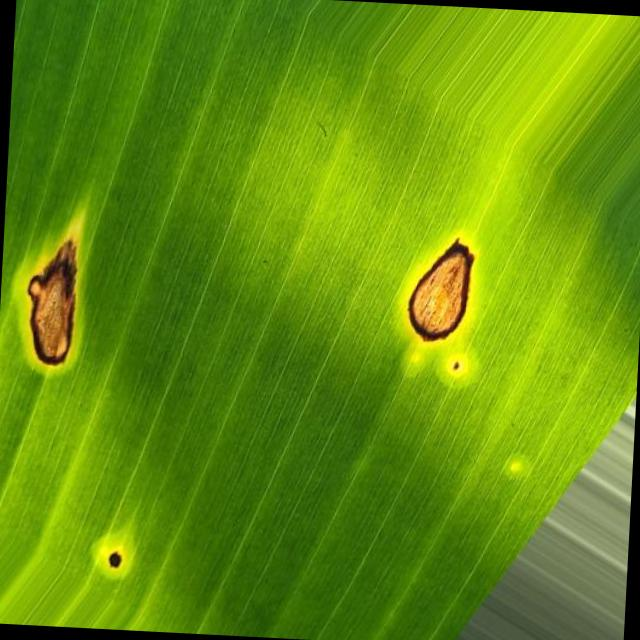Banana_Black_Sigatoka: (370, 138, 528, 392), (2, 208, 126, 412)
